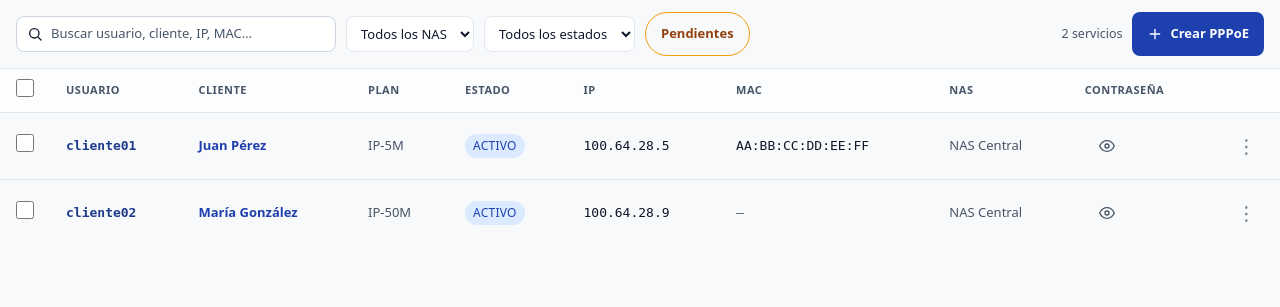
Test: PppoeManagementTab bulk — 5.4: selección múltiple › deseleccionar "seleccionar página" desmarca todos
What coordinates should you click on to do the following:
click the checkbox named "seleccionar todos de esta página"
I would click on:
 (25, 88)
Its box is 16,79 -> 34,97.
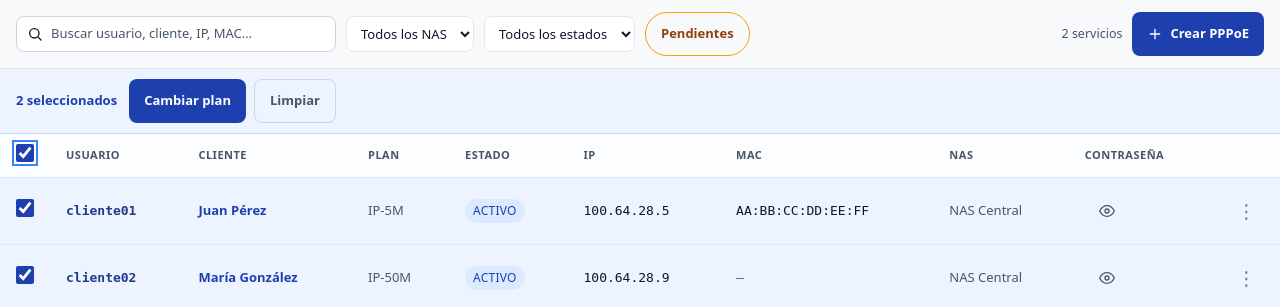
What coordinates should you click on to do the following:
click the checkbox named "seleccionar todos de esta página"
I would click on:
 (25, 153)
Its box is 16,144 -> 34,162.
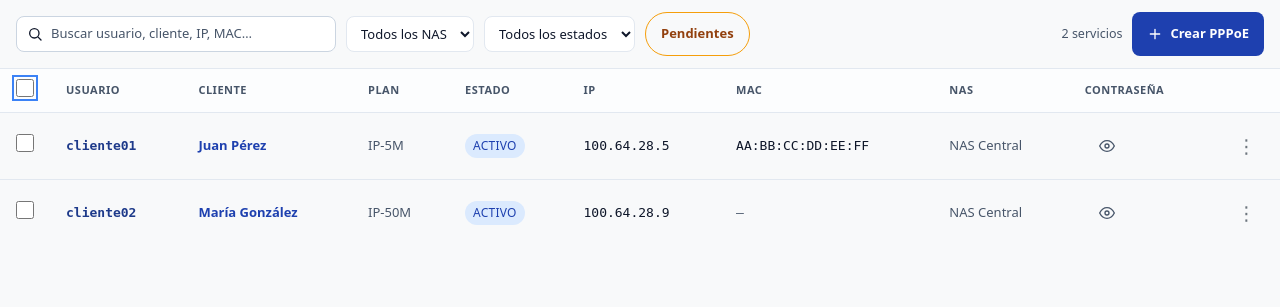
Expected: the checkbox named "Seleccionar cliente01" is not checked, 16,134 -> 34,152
Expected: the checkbox named "Seleccionar cliente02" is not checked, 16,201 -> 34,219
